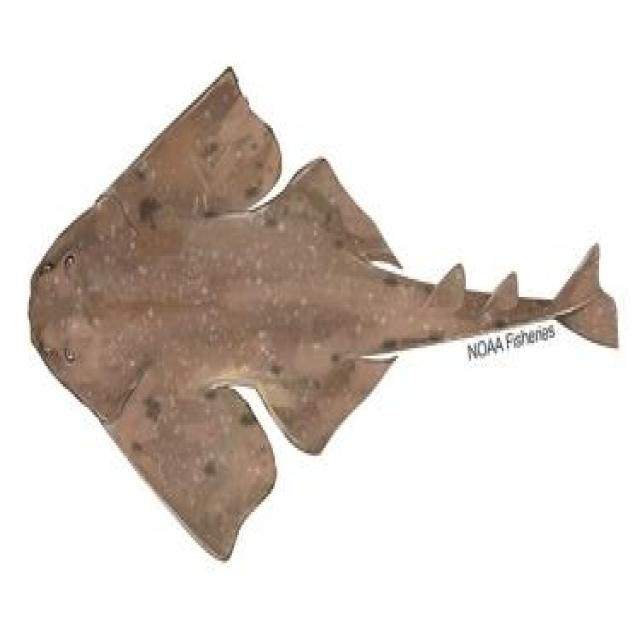gaviota: (29, 69, 616, 558)
